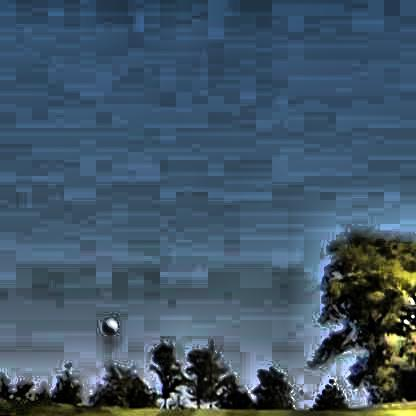golfball: (99, 314, 115, 333)
